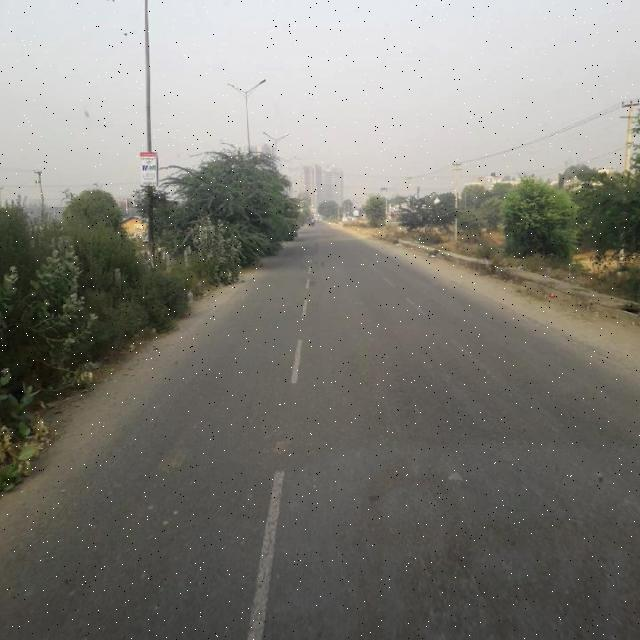D20: (396, 505, 504, 630)
D44: (446, 333, 511, 386)
